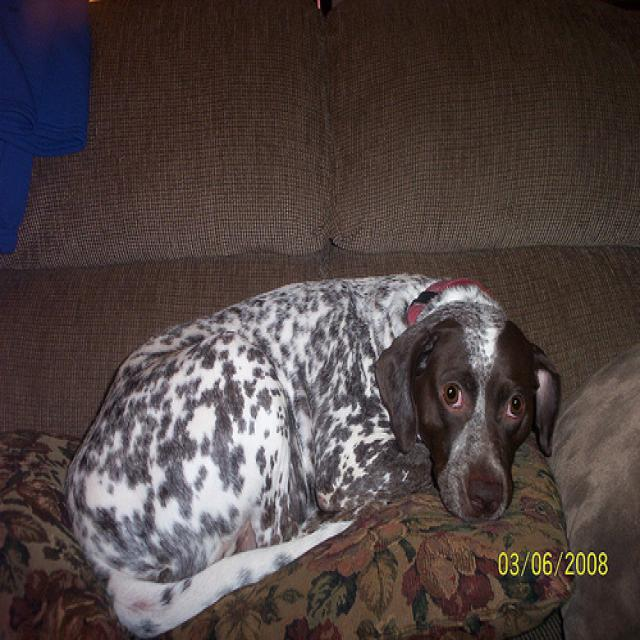dog: (372, 300, 560, 519)
